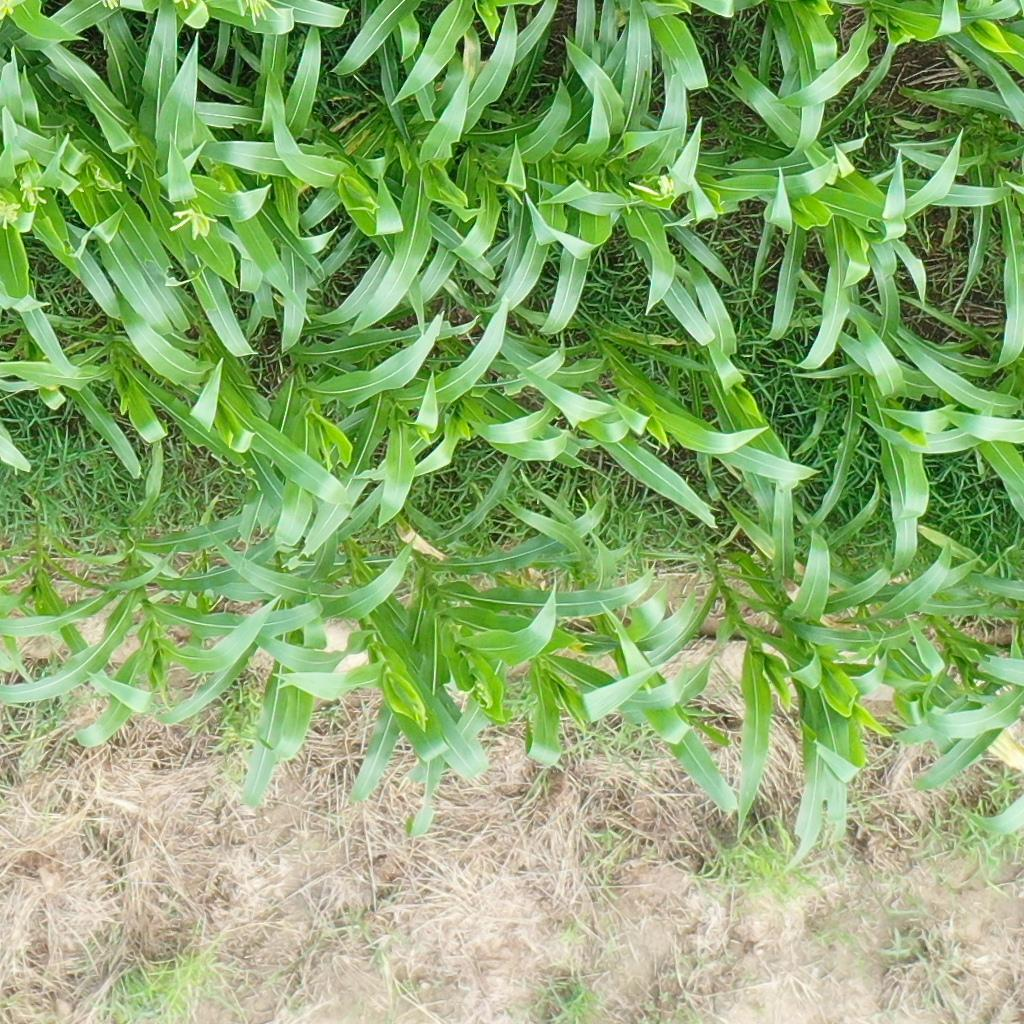Tassel: (1, 172, 51, 224), (166, 208, 223, 240), (234, 1, 288, 30), (624, 171, 674, 201), (470, 680, 494, 711), (410, 703, 430, 727), (1, 1, 17, 19), (97, 1, 123, 10)
